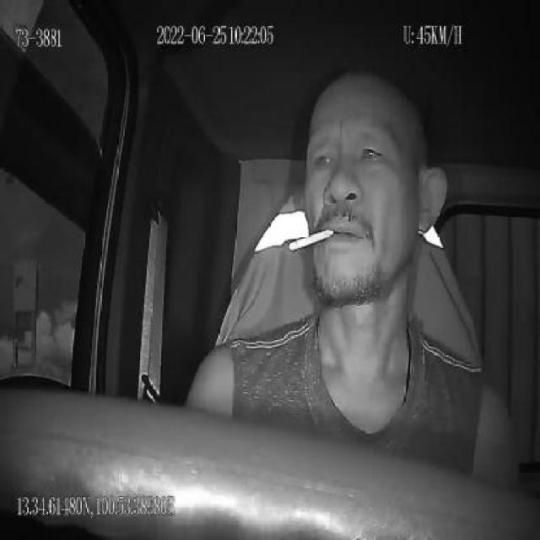smoking: (288, 227, 334, 252)
